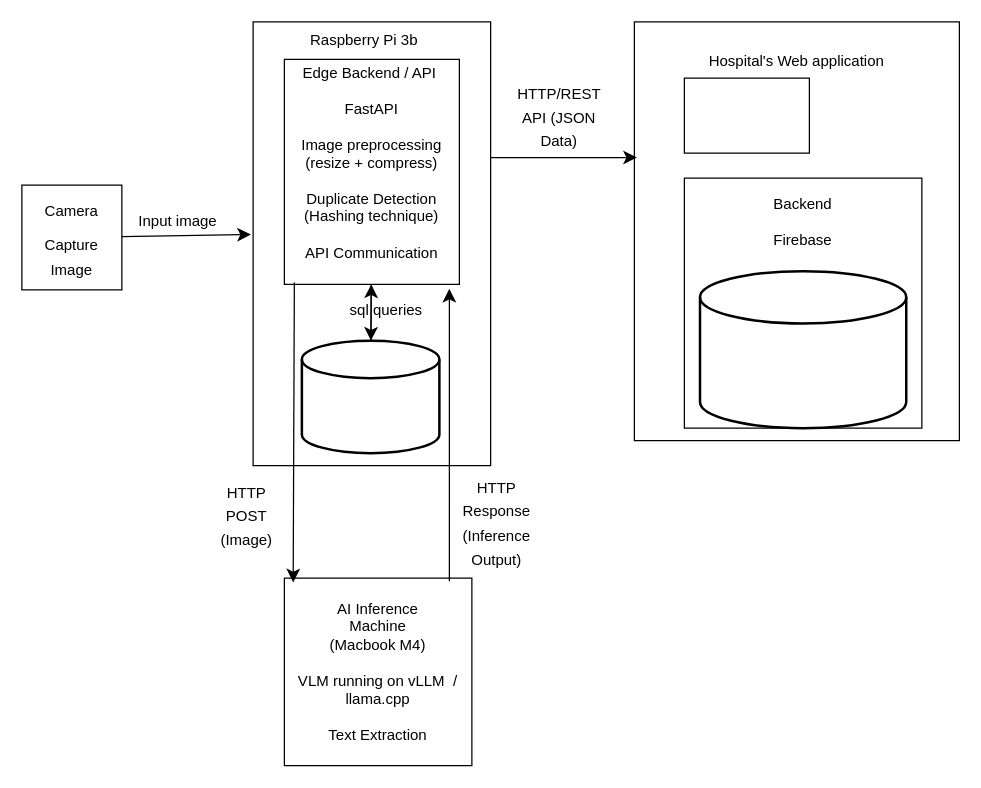
This 981x788 diagram has some shape labels left out. Here are the shapes that lost their labels. From the top down, the centre of each, then its label:
point 746,115: Frontend React
point 802,349: Database Firestore Stores and manages patient and medical data
point 370,396: sqlite Temporary storage Buffering
